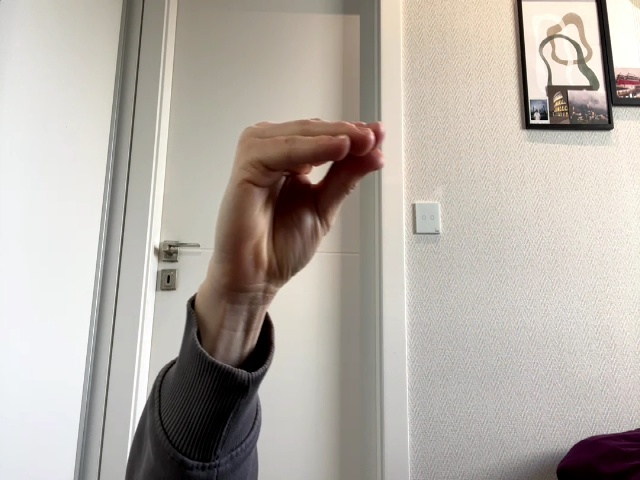E: (214, 119, 385, 292)
